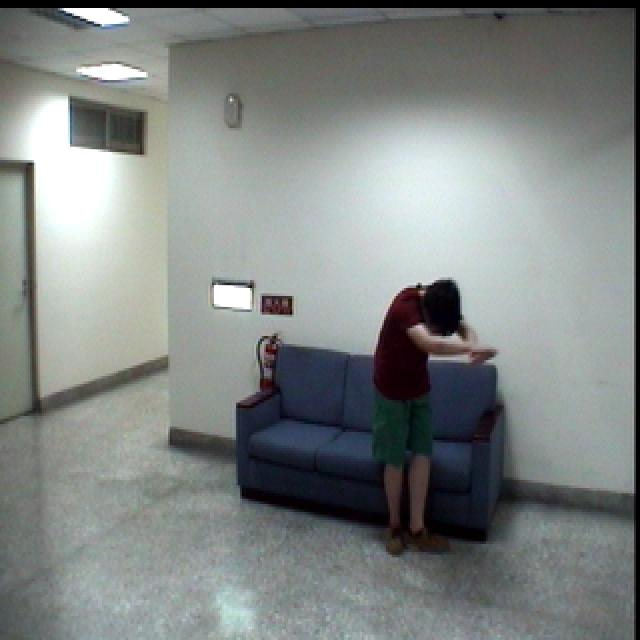bend: (364, 273, 503, 562)
